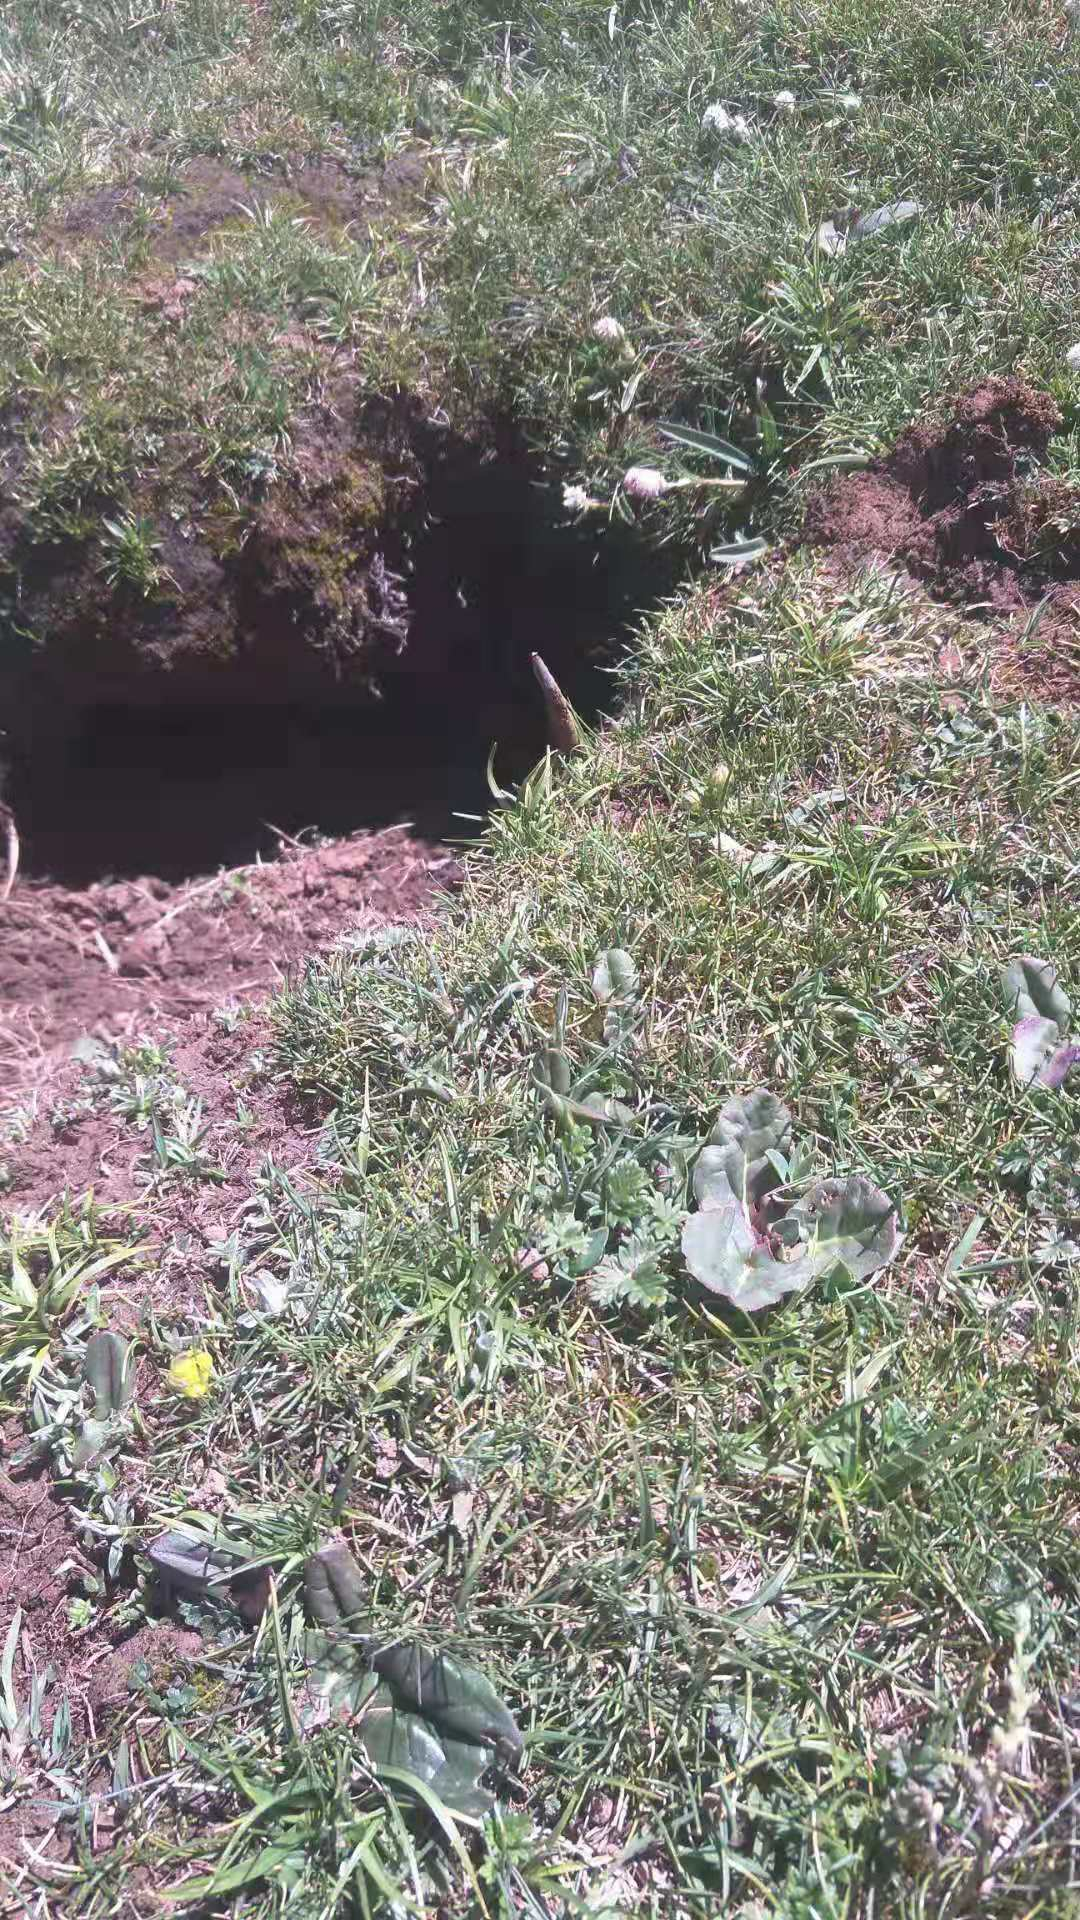cpf: (526, 649, 585, 758)
